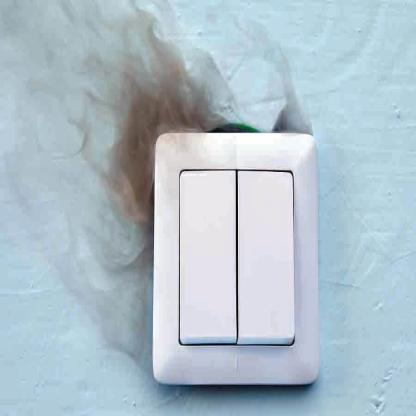smoke: (1, 5, 316, 382)
